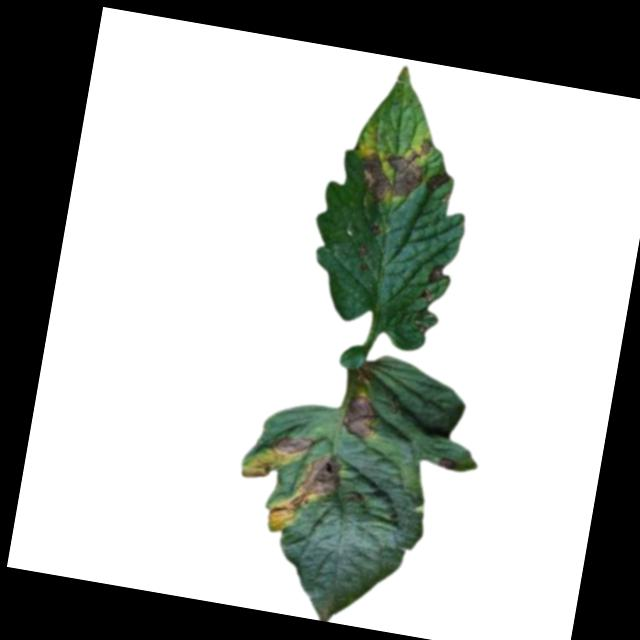Early_blight: (264, 446, 347, 545), (353, 126, 435, 211), (339, 393, 382, 442), (240, 449, 288, 485), (272, 433, 311, 461), (424, 168, 452, 196), (426, 262, 447, 287), (437, 457, 462, 473), (354, 241, 372, 258), (368, 222, 384, 238)
